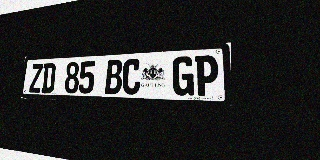5: (78, 61, 95, 94)
8: (64, 62, 80, 93)
B: (105, 59, 123, 94)
C: (122, 59, 141, 95)
D: (41, 63, 56, 93)
G: (172, 56, 194, 96)
P: (195, 55, 218, 96)
Z: (29, 63, 43, 93)
